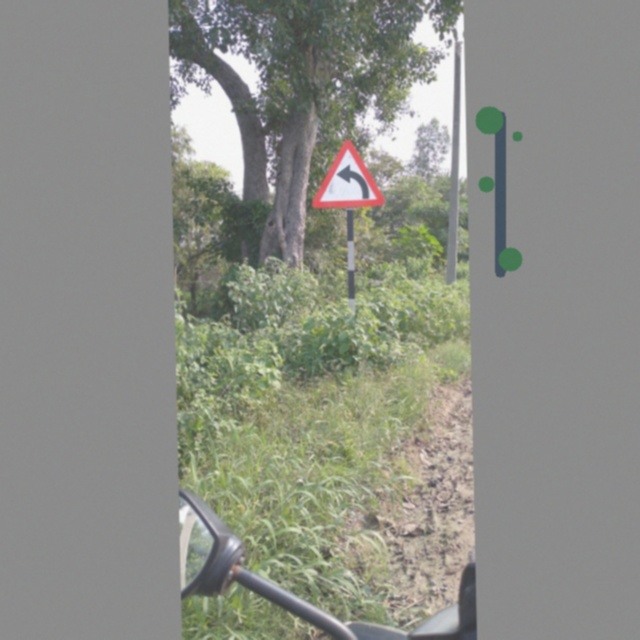Left_Hand_Curve: (306, 134, 385, 212)
